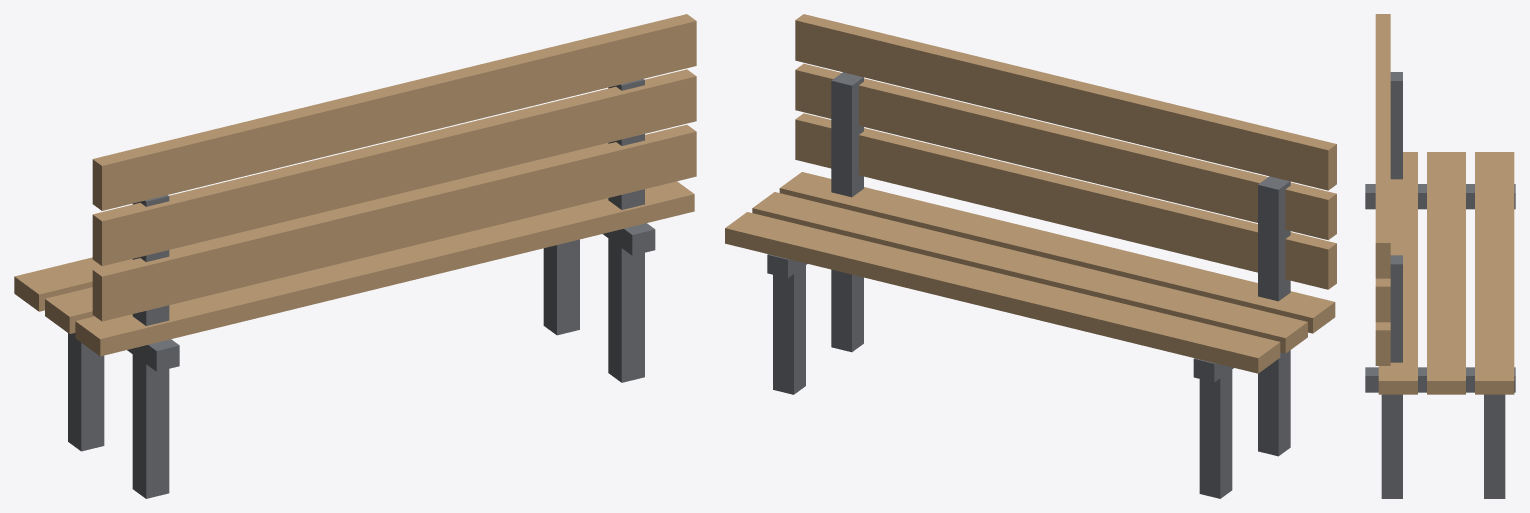
The model's file is tennis-club-and-courts-courtside-bench-a9260a2e__33628.glb.
3 views of the same model, side by side, from view 1: azimuth 30°, elevation 25°; view 2: azimuth 150°, elevation 25°; view 3: azimuth 270°, elevation 25° (orthographic). The views are drawn at different scales.
Visible parts, largest first — view 1: courtside-bench; view 2: courtside-bench; view 3: courtside-bench.
Boxes of the visible parts, x1,y1,x2,y2 form: courtside-bench: (14, 14, 696, 498); courtside-bench: (725, 14, 1336, 498); courtside-bench: (1365, 14, 1515, 498).
Size of the model in its own units: 1.8 by 1.01 by 0.5.
